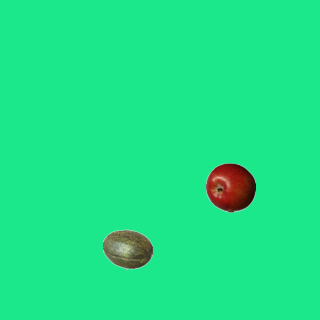Apple Braeburn: (205, 162, 255, 212)
Melon Piel de Sapo: (102, 224, 152, 274)
